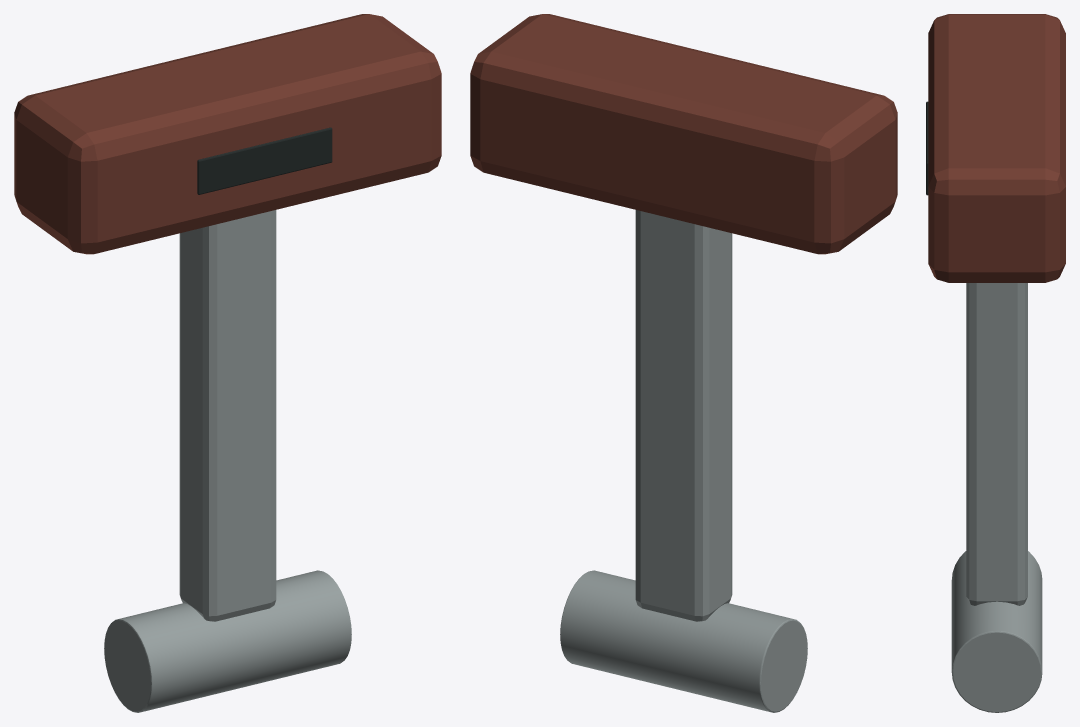
The model's file is START_Handle.fbx.
3 views of the same model, side by side, from view 1: azimuth 30°, elevation 25°; view 2: azimuth 150°, elevation 25°; view 3: azimuth 270°, elevation 25° (orthographic). The views are drawn at different scales.
Parts seen in each view (by area): view 1: START_Handle_EXPORT; view 2: START_Handle_EXPORT; view 3: START_Handle_EXPORT.
Part boxes in pixels (x1=…): START_Handle_EXPORT: x1=14, y1=14, x2=441, y2=712; START_Handle_EXPORT: x1=470, y1=14, x2=897, y2=712; START_Handle_EXPORT: x1=926, y1=14, x2=1065, y2=712.
Size of the model in its own units: 0.276 by 0.434 by 0.0955.
